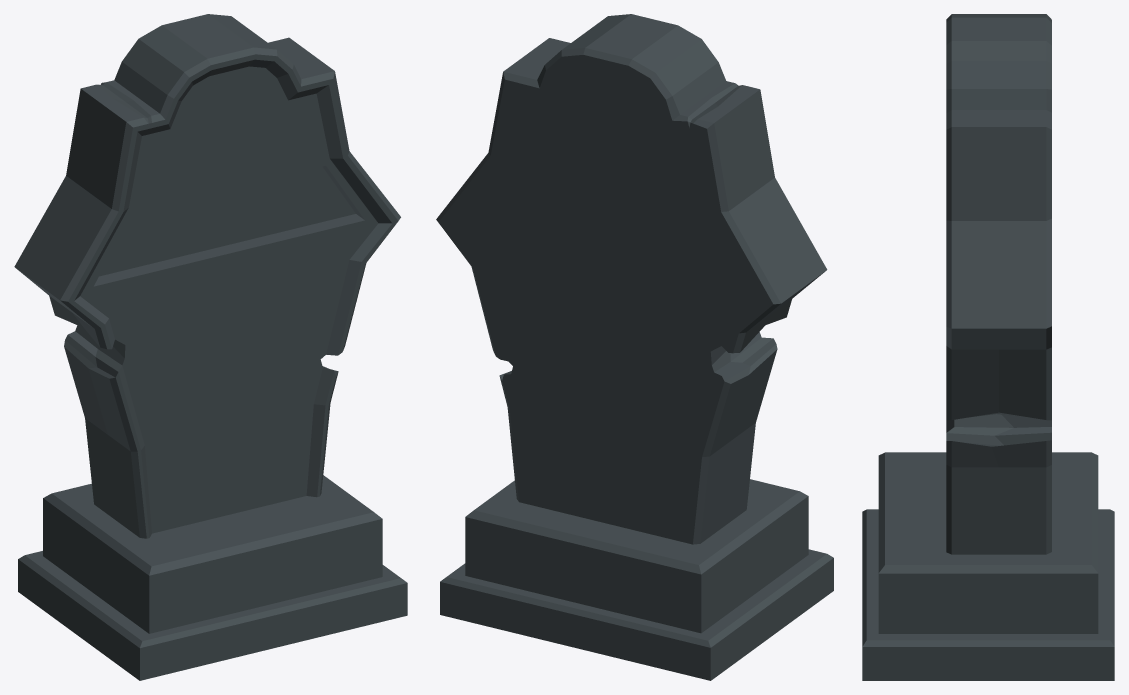
Rendered from tombstone_3.fbx.
3 renders of one model, left to right at view 1: azimuth 30°, elevation 25°; view 2: azimuth 150°, elevation 25°; view 3: azimuth 270°, elevation 25°, orthographic. The views are drawn at different scales.
Visible parts, largest first — view 1: tombstone2; view 2: tombstone2; view 3: tombstone2.
Boxes of the visible parts, <box> form: tombstone2: <box>14,14,407,680</box>; tombstone2: <box>436,14,833,680</box>; tombstone2: <box>862,14,1114,680</box>.
Bounding box in the file's own units: 0.8704 × 1.37 × 0.5378.
